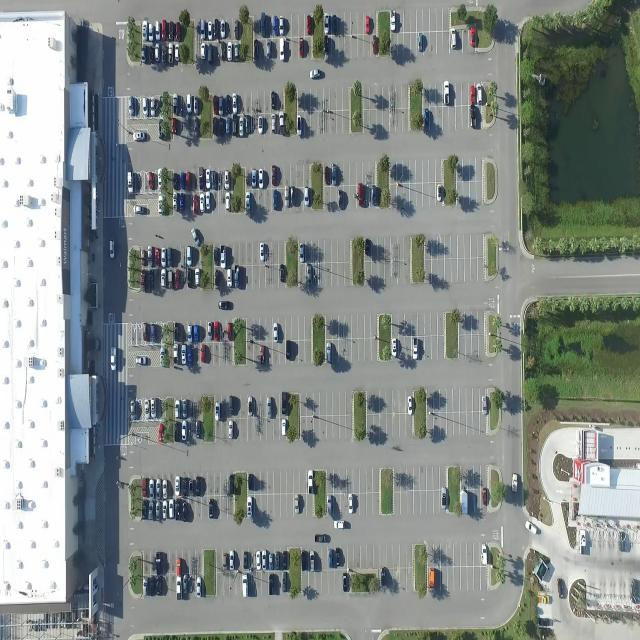car: (630, 578, 640, 606), (190, 227, 201, 247), (579, 529, 587, 556), (110, 346, 118, 372), (278, 112, 286, 136), (524, 520, 536, 536), (357, 183, 364, 209), (176, 576, 183, 601), (234, 265, 241, 289), (428, 569, 435, 593), (281, 390, 288, 414), (272, 189, 279, 212), (411, 337, 418, 360), (449, 28, 456, 50), (157, 168, 164, 190), (109, 238, 116, 260), (194, 419, 201, 441), (511, 472, 518, 494), (326, 341, 332, 366), (538, 617, 553, 627), (389, 10, 396, 31), (213, 321, 220, 342), (174, 399, 181, 420), (406, 395, 413, 416), (557, 578, 564, 599), (260, 12, 266, 36), (470, 105, 476, 129), (198, 166, 204, 190), (128, 171, 134, 195), (175, 269, 181, 293), (286, 340, 292, 364), (144, 400, 150, 424), (175, 419, 181, 443), (182, 419, 188, 443), (266, 396, 272, 420), (242, 574, 248, 598), (370, 185, 377, 205), (213, 246, 220, 266), (218, 300, 232, 310), (314, 534, 328, 544), (228, 550, 235, 570), (536, 595, 550, 605), (279, 38, 285, 61), (232, 92, 238, 115), (272, 163, 278, 186), (291, 186, 297, 209), (224, 169, 230, 192), (205, 168, 211, 191), (150, 397, 156, 420), (156, 477, 162, 500), (142, 499, 148, 522), (162, 499, 168, 522), (182, 499, 188, 522), (142, 575, 148, 598), (196, 576, 202, 599), (481, 543, 487, 566), (436, 185, 443, 204), (172, 193, 179, 212), (619, 531, 626, 550), (133, 131, 145, 142), (172, 93, 178, 115), (186, 93, 192, 115), (296, 115, 302, 137), (470, 84, 476, 106), (476, 83, 482, 105), (284, 186, 290, 208), (187, 245, 193, 267), (182, 398, 188, 420), (481, 394, 487, 416), (327, 495, 333, 517), (148, 500, 154, 522), (301, 549, 307, 571), (381, 567, 387, 589), (308, 469, 313, 495), (200, 19, 206, 40), (128, 96, 134, 117), (218, 96, 224, 117), (232, 115, 238, 136), (324, 165, 330, 186), (338, 189, 344, 210), (147, 172, 154, 190), (140, 271, 146, 292), (168, 269, 174, 290), (259, 344, 265, 365), (158, 422, 164, 443), (228, 419, 234, 440), (162, 479, 168, 500), (156, 575, 162, 596), (441, 486, 446, 511), (309, 69, 320, 80), (136, 355, 147, 366), (142, 21, 148, 41), (148, 22, 154, 42), (306, 15, 312, 35), (324, 12, 329, 36), (193, 96, 199, 116), (226, 94, 232, 114), (423, 107, 429, 127), (304, 188, 310, 208), (205, 192, 211, 212), (158, 194, 164, 214), (148, 270, 154, 290), (221, 244, 226, 268), (260, 242, 266, 262), (280, 264, 286, 284), (272, 322, 278, 342), (200, 344, 206, 364), (130, 402, 136, 422), (248, 396, 254, 416), (228, 395, 234, 415), (334, 519, 344, 531), (149, 479, 155, 499), (141, 479, 147, 499), (155, 502, 161, 522), (157, 551, 162, 575), (183, 574, 189, 594), (281, 572, 287, 592), (444, 81, 449, 104), (154, 43, 160, 62), (168, 43, 174, 62), (245, 115, 251, 134), (147, 246, 153, 265), (167, 247, 173, 266), (215, 269, 221, 288), (391, 338, 397, 357), (143, 323, 149, 342), (176, 558, 182, 577), (328, 549, 334, 568), (239, 116, 244, 138), (193, 193, 198, 215), (134, 205, 144, 216), (161, 246, 166, 268), (160, 346, 165, 368), (151, 323, 156, 345), (247, 496, 252, 518), (209, 498, 214, 520), (169, 499, 174, 521), (176, 499, 181, 521), (310, 550, 315, 572), (220, 21, 226, 39), (417, 33, 423, 51), (225, 117, 231, 135), (179, 193, 185, 211), (226, 269, 232, 287), (306, 266, 312, 284), (482, 488, 488, 506), (169, 20, 174, 41), (299, 37, 304, 58), (471, 27, 476, 48), (151, 96, 156, 117), (332, 164, 337, 185), (174, 344, 179, 365), (188, 347, 193, 368), (175, 476, 180, 497), (269, 574, 274, 595), (222, 553, 228, 570), (141, 44, 146, 64), (208, 44, 213, 64), (234, 19, 239, 39), (254, 39, 259, 59), (273, 15, 278, 35), (279, 15, 284, 35), (213, 94, 218, 114), (258, 116, 263, 136), (246, 192, 251, 212), (200, 193, 205, 213), (161, 269, 166, 289), (216, 402, 221, 422), (262, 550, 267, 570), (348, 494, 353, 514), (200, 43, 206, 59), (155, 21, 160, 40), (176, 22, 181, 41), (208, 21, 213, 40), (234, 42, 239, 61), (143, 97, 148, 116), (271, 92, 276, 111), (155, 247, 160, 266), (227, 323, 232, 342), (174, 323, 179, 342), (194, 324, 199, 343), (189, 479, 194, 498), (256, 551, 261, 570), (187, 268, 192, 287), (272, 113, 276, 136), (175, 44, 180, 62), (259, 170, 264, 188), (173, 172, 178, 190), (180, 172, 185, 190), (186, 171, 191, 189), (183, 479, 188, 497), (275, 552, 280, 570), (282, 550, 287, 568), (343, 574, 348, 592), (365, 238, 370, 256), (295, 494, 299, 516), (269, 553, 274, 570), (162, 20, 166, 41), (214, 18, 218, 39), (252, 167, 256, 188), (300, 243, 304, 264), (182, 344, 186, 365), (162, 44, 166, 64), (266, 40, 271, 56), (366, 15, 370, 35), (373, 35, 377, 55), (213, 116, 217, 136), (212, 170, 216, 190), (141, 250, 146, 266), (208, 321, 212, 341), (244, 550, 248, 570), (221, 41, 225, 60), (228, 42, 232, 61), (333, 15, 337, 34), (196, 268, 200, 287), (149, 46, 153, 64), (188, 325, 192, 343), (282, 418, 286, 436), (196, 476, 200, 494), (324, 36, 328, 53), (172, 118, 176, 134), (220, 118, 223, 136), (336, 553, 340, 566)
free_space: (426, 412, 434, 437), (370, 314, 378, 338), (391, 314, 399, 338), (424, 336, 432, 360), (458, 335, 466, 359), (326, 470, 334, 494), (216, 549, 224, 573), (426, 544, 434, 568), (434, 566, 442, 590), (440, 567, 448, 591), (453, 543, 461, 567), (480, 567, 488, 591), (393, 468, 401, 492), (291, 15, 299, 38), (390, 33, 398, 56), (462, 31, 470, 54), (252, 266, 260, 289), (298, 264, 306, 287), (194, 396, 202, 419), (392, 414, 400, 437), (398, 391, 406, 414), (278, 318, 286, 341), (430, 336, 438, 359), (464, 312, 472, 335), (188, 497, 196, 520), (254, 495, 262, 518), (360, 546, 368, 569), (406, 545, 414, 568), (446, 567, 454, 590), (406, 491, 414, 514), (474, 489, 482, 512), (310, 110, 317, 136), (330, 186, 337, 212), (163, 550, 170, 576), (468, 488, 475, 514), (304, 37, 312, 59), (422, 85, 430, 107), (296, 188, 304, 210), (336, 164, 344, 186), (462, 182, 470, 204), (470, 236, 478, 258), (432, 390, 440, 412), (452, 390, 460, 412), (246, 342, 254, 364), (304, 318, 312, 340), (404, 314, 412, 336), (430, 314, 438, 336), (286, 472, 294, 494), (314, 548, 322, 570), (366, 546, 374, 568), (406, 468, 414, 490), (412, 469, 420, 491), (393, 492, 401, 514), (304, 112, 311, 137), (476, 180, 483, 205), (300, 392, 307, 417), (300, 415, 307, 440), (332, 339, 339, 364), (358, 338, 365, 363), (364, 314, 371, 339), (406, 567, 413, 592), (420, 490, 427, 515), (266, 14, 273, 38), (331, 35, 338, 59), (344, 34, 351, 58), (351, 34, 358, 58), (410, 32, 417, 56), (297, 88, 304, 112), (329, 110, 336, 134), (336, 110, 343, 134), (363, 108, 370, 132), (436, 106, 443, 130), (462, 106, 469, 130), (324, 186, 331, 210), (435, 161, 443, 182), (154, 268, 161, 292), (174, 245, 181, 269), (240, 266, 247, 290), (272, 265, 279, 289), (344, 262, 351, 286), (365, 261, 372, 285), (438, 259, 445, 283), (451, 258, 458, 282), (464, 258, 471, 282), (476, 237, 484, 258), (215, 418, 222, 442), (260, 394, 267, 418), (339, 392, 346, 416), (339, 415, 346, 439), (366, 391, 373, 415), (373, 414, 380, 438), (399, 413, 406, 437), (426, 389, 433, 413), (453, 411, 460, 435), (466, 388, 473, 412), (213, 342, 220, 366), (253, 340, 260, 364), (338, 316, 345, 340), (345, 315, 352, 339), (371, 338, 378, 362), (405, 336, 412, 360), (478, 334, 485, 358), (267, 495, 274, 519), (274, 494, 281, 518), (346, 469, 353, 493), (366, 469, 373, 493), (340, 493, 348, 514), (216, 572, 223, 596), (308, 570, 315, 594), (328, 570, 335, 594), (473, 543, 480, 567), (460, 566, 467, 590), (467, 567, 474, 591), (400, 468, 407, 492), (467, 466, 474, 490), (474, 465, 481, 489), (253, 16, 260, 39), (285, 15, 292, 38), (285, 38, 292, 61), (357, 12, 364, 35), (370, 11, 377, 34), (397, 33, 404, 56), (423, 32, 430, 55), (317, 111, 324, 134), (212, 191, 219, 214), (390, 185, 397, 208), (422, 183, 429, 206), (456, 182, 463, 205), (312, 263, 319, 286), (331, 263, 338, 286), (378, 261, 385, 284), (425, 260, 432, 283), (444, 259, 451, 282), (404, 260, 411, 283), (241, 418, 248, 441), (247, 419, 254, 442), (273, 417, 280, 440), (313, 393, 320, 416), (313, 416, 320, 439), (326, 393, 333, 416), (326, 416, 333, 439), (379, 391, 386, 414), (386, 391, 393, 414), (386, 414, 393, 437), (433, 412, 440, 435), (466, 412, 473, 435), (266, 341, 273, 364), (285, 317, 292, 340), (298, 341, 305, 364), (332, 316, 339, 339), (398, 337, 405, 360), (458, 312, 465, 335), (471, 312, 478, 335), (465, 335, 472, 358), (214, 495, 221, 518), (267, 472, 274, 495), (334, 471, 341, 494), (340, 470, 347, 493), (353, 470, 360, 493), (373, 470, 380, 493), (170, 551, 177, 574), (195, 550, 202, 573), (255, 573, 262, 596), (315, 571, 322, 594), (373, 546, 380, 569), (386, 546, 393, 569), (393, 569, 400, 592), (440, 543, 447, 566), (447, 543, 454, 566), (460, 544, 467, 567), (474, 566, 481, 589), (460, 466, 467, 489), (144, 550, 150, 576), (194, 19, 201, 41), (194, 42, 201, 64), (298, 14, 305, 36), (344, 12, 351, 34), (357, 35, 364, 57), (397, 11, 404, 33), (404, 33, 411, 55), (409, 10, 416, 32), (423, 10, 430, 32), (436, 10, 443, 32), (436, 32, 443, 54), (443, 32, 450, 54), (180, 118, 187, 140), (323, 88, 330, 110), (382, 87, 389, 109), (376, 110, 383, 132), (429, 107, 436, 129), (429, 85, 436, 107), (455, 84, 462, 106), (475, 106, 482, 128), (252, 190, 259, 212), (245, 168, 252, 190), (246, 266, 253, 288), (344, 240, 351, 262), (371, 262, 378, 284), (384, 261, 391, 283), (371, 239, 378, 261), (431, 260, 438, 282), (457, 236, 464, 258), (464, 236, 471, 258), (477, 258, 484, 280), (404, 238, 411, 260), (221, 396, 228, 418), (273, 396, 280, 418), (332, 393, 339, 415), (379, 415, 386, 437), (392, 391, 399, 413), (406, 414, 413, 436), (446, 390, 453, 412), (200, 321, 207, 343), (193, 343, 200, 365), (279, 342, 286, 364), (298, 318, 305, 340), (305, 341, 312, 363), (398, 314, 405, 336), (411, 314, 418, 336), (424, 314, 431, 336), (201, 474, 208, 496), (195, 498, 202, 520), (214, 474, 221, 496), (221, 496, 228, 518), (280, 495, 287, 517), (306, 494, 313, 516), (163, 575, 170, 597), (182, 551, 189, 573), (236, 549, 243, 571), (347, 547, 354, 569), (393, 546, 400, 568), (150, 575, 157, 597), (480, 466, 487, 488), (344, 185, 350, 210), (236, 571, 242, 596), (442, 9, 449, 30), (245, 93, 252, 114), (264, 92, 271, 113), (336, 89, 343, 110), (469, 160, 476, 181), (233, 244, 240, 265), (305, 242, 312, 263), (431, 238, 438, 259), (444, 238, 451, 259), (299, 472, 306, 493), (353, 494, 360, 515), (366, 494, 373, 515), (334, 494, 341, 515), (304, 88, 310, 112), (324, 110, 330, 134), (383, 108, 389, 132), (443, 106, 449, 130), (416, 183, 422, 207), (429, 182, 435, 206), (470, 180, 476, 204), (260, 265, 266, 289), (338, 262, 344, 286), (235, 418, 241, 442), (267, 417, 273, 441), (307, 416, 313, 440), (320, 416, 326, 440), (346, 415, 352, 439), (440, 412, 446, 436), (447, 412, 453, 436), (460, 412, 466, 436), (473, 388, 479, 412), (228, 342, 234, 366), (326, 316, 332, 340), (438, 336, 444, 360), (472, 334, 478, 358), (169, 474, 175, 498), (287, 493, 293, 517), (170, 574, 176, 598), (230, 572, 236, 596), (302, 570, 308, 594), (322, 570, 328, 594), (400, 544, 406, 568), (387, 568, 393, 592), (277, 92, 284, 112), (389, 164, 396, 184), (396, 164, 403, 184), (403, 164, 410, 184), (422, 162, 429, 182), (318, 243, 325, 263), (384, 240, 391, 260), (227, 496, 234, 516), (373, 494, 380, 514), (223, 574, 230, 594), (227, 17, 233, 40), (338, 35, 344, 58), (430, 9, 436, 32), (343, 110, 349, 133), (363, 87, 369, 110), (396, 108, 402, 131), (449, 106, 455, 129), (219, 191, 225, 214), (259, 189, 265, 212), (278, 188, 284, 211), (350, 186, 356, 209), (356, 163, 362, 186), (397, 184, 403, 207), (410, 184, 416, 207), (456, 159, 462, 182), (194, 245, 200, 268), (240, 243, 246, 266), (253, 243, 259, 266), (266, 242, 272, 265), (266, 265, 272, 288), (278, 242, 284, 265), (325, 263, 331, 286), (438, 237, 444, 260), (451, 236, 457, 259), (458, 258, 464, 281), (471, 258, 477, 281), (136, 398, 142, 421), (222, 419, 228, 442), (241, 395, 247, 418), (260, 418, 266, 441), (307, 393, 313, 416), (320, 393, 326, 416), (346, 392, 352, 415), (367, 415, 373, 438), (373, 391, 379, 414), (460, 389, 466, 412), (480, 412, 486, 435), (247, 318, 253, 341), (266, 318, 272, 341), (273, 341, 279, 364), (352, 316, 358, 339), (352, 339, 358, 362), (358, 315, 364, 338), (365, 338, 371, 361), (418, 336, 424, 359), (418, 314, 424, 337), (254, 472, 260, 495), (280, 471, 286, 494), (294, 471, 300, 494), (360, 470, 366, 493), (150, 552, 156, 575), (189, 551, 195, 574), (262, 572, 268, 595), (354, 546, 360, 569), (380, 546, 386, 569), (400, 568, 406, 591), (434, 544, 440, 567), (275, 572, 281, 595), (427, 467, 433, 490), (434, 490, 440, 513), (427, 490, 433, 513), (331, 244, 338, 263), (214, 41, 220, 63), (292, 38, 298, 60), (338, 13, 344, 35), (430, 32, 436, 54), (186, 117, 192, 139), (239, 92, 245, 114), (258, 92, 264, 114), (265, 113, 271, 135), (310, 88, 316, 110), (317, 89, 323, 111), (370, 88, 376, 110), (376, 88, 382, 110), (396, 86, 402, 108), (402, 86, 408, 108), (449, 84, 455, 106), (456, 107, 462, 129), (462, 84, 468, 106), (193, 169, 199, 191), (265, 189, 271, 211), (284, 166, 290, 188), (291, 166, 297, 188), (298, 166, 304, 188), (350, 164, 356, 186), (416, 162, 422, 184), (429, 160, 435, 182), (463, 160, 469, 182), (227, 244, 233, 266), (246, 243, 252, 265), (272, 242, 278, 264), (312, 242, 318, 264), (319, 263, 325, 285), (378, 239, 384, 261), (425, 238, 431, 260), (234, 396, 240, 418), (333, 416, 339, 438), (440, 390, 446, 412), (473, 412, 479, 434), (253, 319, 259, 341), (260, 319, 266, 341), (292, 318, 298, 340), (292, 341, 298, 363), (346, 340, 352, 362), (478, 313, 484, 335), (202, 498, 208, 520), (208, 474, 214, 496), (221, 473, 227, 495), (261, 472, 267, 494), (274, 472, 280, 494), (261, 495, 267, 517), (300, 494, 306, 516), (360, 493, 366, 515), (322, 548, 328, 570), (335, 571, 341, 593), (341, 547, 347, 569), (454, 568, 460, 590), (467, 544, 473, 566), (420, 468, 426, 490), (260, 39, 266, 60), (273, 38, 279, 59), (351, 13, 357, 34), (364, 35, 370, 56), (404, 11, 410, 32), (417, 10, 423, 31), (180, 96, 186, 117), (343, 89, 349, 110), (402, 109, 408, 130), (436, 85, 442, 106), (187, 192, 193, 213), (265, 168, 271, 189), (278, 167, 284, 188), (343, 165, 349, 186), (410, 163, 416, 184), (476, 160, 482, 181), (221, 267, 227, 288), (135, 172, 141, 193), (160, 399, 166, 420), (181, 322, 187, 343), (438, 314, 444, 335), (440, 468, 446, 489), (208, 341, 213, 366), (252, 93, 258, 113), (330, 89, 336, 109), (370, 110, 376, 130), (303, 166, 309, 186), (325, 243, 331, 263), (457, 31, 462, 54), (136, 96, 141, 118), (434, 468, 439, 490), (338, 244, 344, 262), (404, 185, 409, 206)
